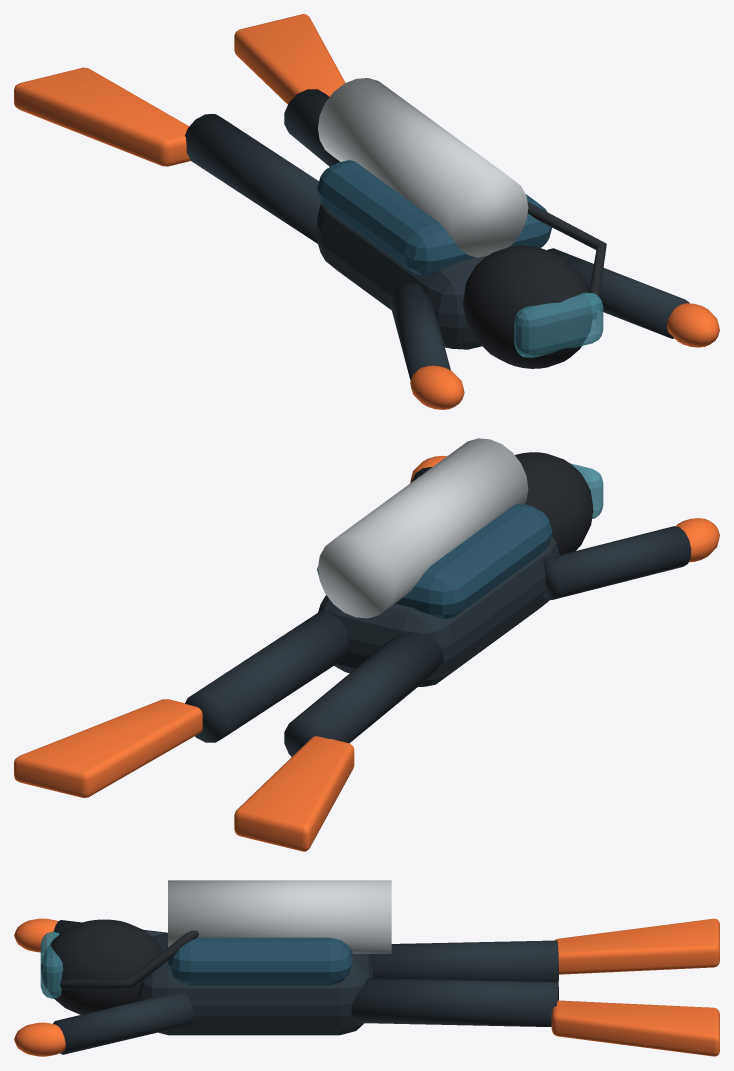
The model's file is explorer_diver.glb.
3 views of the same model, one above another, from view 1: azimuth 30°, elevation 25°; view 2: azimuth 150°, elevation 25°; view 3: azimuth 270°, elevation 25° (orthographic). The views are drawn at different scales.
Parts seen in each view (by area): view 1: diver_air_tank, diver_head, diver_left_fin, diver_bcd, diver_left_leg, diver_torso, diver_right_fin, diver_mask, diver_right_arm, diver_left_arm, diver_right_leg, diver_left_glove (+2 smaller); view 2: diver_air_tank, diver_torso, diver_right_fin, diver_right_leg, diver_left_leg, diver_bcd, diver_left_fin, diver_left_arm, diver_head, diver_left_glove, diver_mask; view 3: diver_air_tank, diver_torso, diver_right_leg, diver_bcd, diver_head, diver_right_fin, diver_left_leg, diver_left_fin, diver_right_arm, diver_regulator_hose, diver_right_glove, diver_mask (+2 smaller).
Boxes of the visible parts, x1,y1,x2,y2 form: diver_air_tank: (318, 78, 528, 257); diver_head: (463, 245, 592, 368); diver_left_fin: (14, 67, 190, 166); diver_bcd: (317, 160, 552, 275); diver_left_leg: (185, 114, 321, 243); diver_torso: (317, 203, 538, 349); diver_right_fin: (234, 14, 345, 104); diver_mask: (514, 292, 603, 357); diver_right_arm: (547, 248, 689, 338); diver_left_arm: (390, 283, 450, 380); diver_right_leg: (284, 89, 339, 166); diver_left_glove: (410, 365, 464, 409); diver_air_tank: (318, 438, 528, 618); diver_torso: (318, 536, 559, 686); diver_right_fin: (14, 699, 202, 797); diver_right_leg: (185, 610, 348, 742); diver_left_leg: (284, 632, 443, 756); diver_bcd: (317, 503, 552, 619); diver_left_fin: (234, 736, 354, 851); diver_left_arm: (543, 526, 691, 599); diver_head: (515, 452, 593, 554); diver_left_glove: (676, 518, 719, 562); diver_mask: (570, 463, 603, 518); diver_air_tank: (168, 880, 391, 953); diver_torso: (137, 932, 372, 1035); diver_right_leg: (351, 978, 558, 1026); diver_bcd: (168, 937, 352, 985); diver_head: (41, 919, 161, 1014); diver_right_fin: (551, 1000, 719, 1056); diver_left_leg: (369, 940, 558, 982); diver_left_fin: (554, 918, 719, 974); diver_right_arm: (53, 991, 192, 1054); diver_regulator_hose: (60, 930, 199, 989); diver_right_glove: (14, 1022, 65, 1056); diver_mask: (40, 931, 63, 998).
Bounding box in the file's own units: 1.4 × 0.73 × 3.44.
